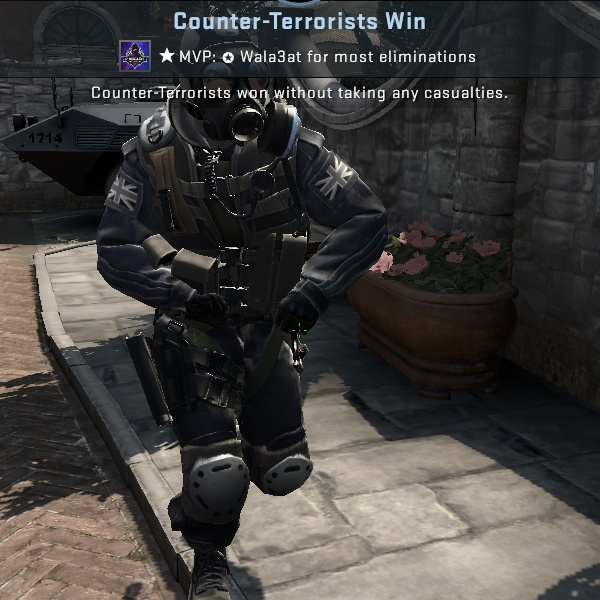ct_body: (41, 4, 406, 586)
ct_head: (133, 7, 316, 158)
